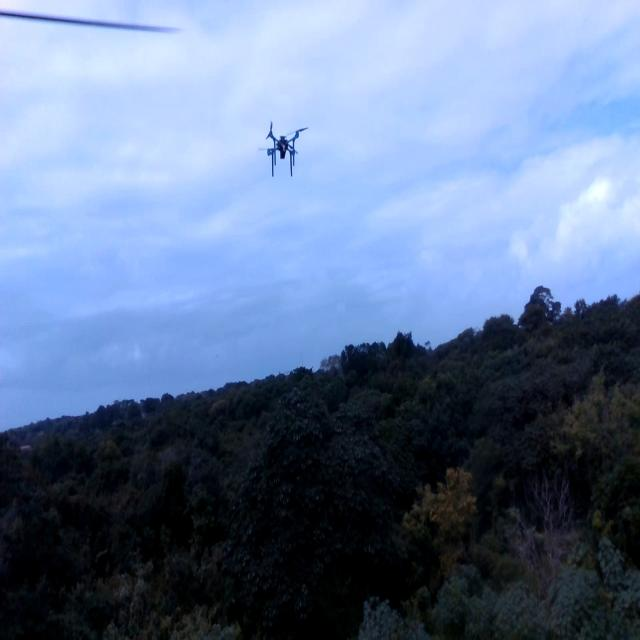-uav-: (254, 114, 310, 178)
